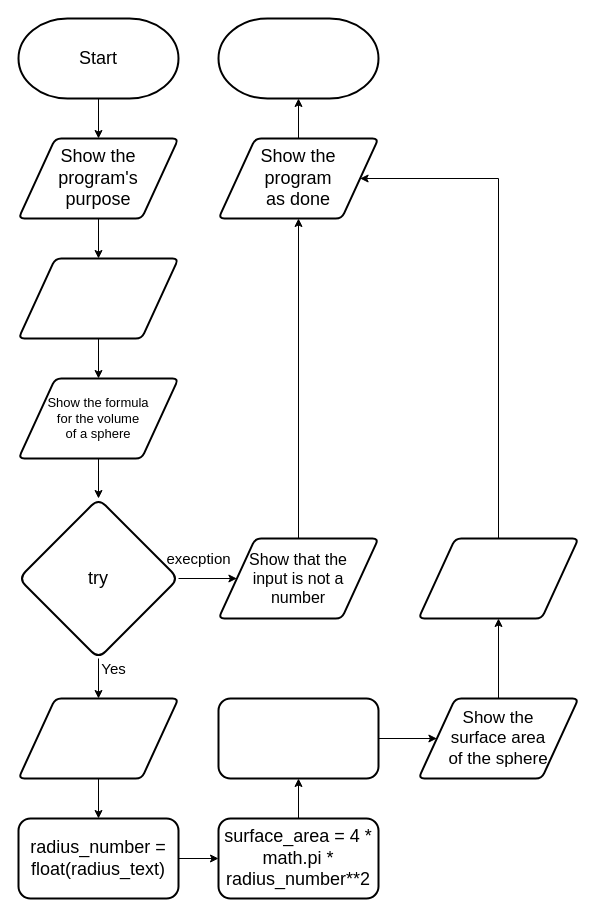
Some shapes in this 596 by 916 pixel diagram are drawn without their labels. The shapes that lost their labels are listed below. From the top down, each one's box as (x1, y1, x2, y2) in pixels, then its label:
(217, 17, 379, 99): Stop
(17, 257, 179, 339): Show the formula for the surface area of a sphere
(417, 537, 579, 619): Show the volume of the sphere
(17, 697, 179, 779): Set the radius of the sphere
(217, 697, 379, 779): volume = (4 / 3) * math.pi * radius_number**3
